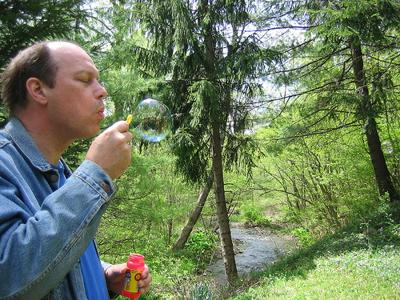person: (2, 41, 151, 298)
